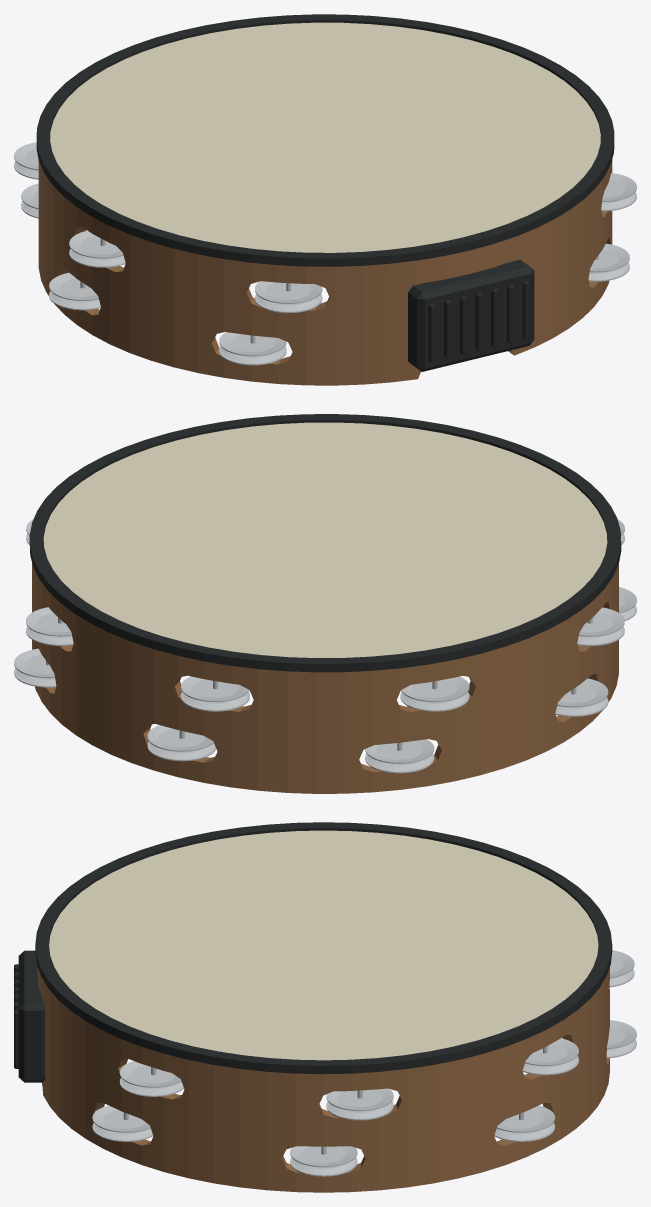
The model's file is full.fbx.
3 renders of one model, top to bottom at view 1: azimuth 30°, elevation 25°; view 2: azimuth 150°, elevation 25°; view 3: azimuth 270°, elevation 25°, orthographic. The views are drawn at different scales.
Visible parts, largest first — view 1: Cream taut head, Wooden slotted circular frame, Narrow dark upper binding, Rounded grip pad, Jingle 1 7 1, Jingle 0 7 1, Jingle 1 6 1, Jingle 0 6 1, Jingle 0 1 1, Jingle 1 1 1, Jingle 0 7 -1, Jingle 1 7 -1 (+2 smaller); view 2: Cream taut head, Wooden slotted circular frame, Narrow dark upper binding, Jingle 0 5 1, Jingle 1 5 1, Jingle 1 4 1, Jingle 0 4 1, Jingle 0 6 1, Jingle 1 6 1, Jingle 1 3 1, Jingle 0 3 1, Jingle 0 5 -1 (+3 smaller); view 3: Cream taut head, Wooden slotted circular frame, Narrow dark upper binding, Rounded grip pad, Jingle 0 2 1, Jingle 1 2 1, Jingle 1 1 1, Jingle 0 1 1, Jingle 0 3 1, Jingle 1 3 1, Jingle 0 2 -1, Jingle 1 2 -1 (+5 smaller).
Boxes of the visible parts, x1,y1,x2,y2 form: Cream taut head: (50, 22, 600, 252); Wooden slotted circular frame: (38, 160, 612, 385); Narrow dark upper binding: (36, 14, 614, 266); Rounded grip pad: (408, 259, 534, 371); Jingle 1 7 1: (255, 281, 322, 303); Jingle 0 7 1: (219, 332, 286, 356); Jingle 1 6 1: (69, 230, 123, 258); Jingle 0 6 1: (49, 272, 98, 300); Jingle 0 1 1: (589, 243, 629, 272); Jingle 1 1 1: (602, 173, 636, 201); Jingle 0 7 -1: (219, 346, 286, 365); Jingle 1 7 -1: (255, 294, 322, 313); Cream taut head: (43, 422, 607, 657); Wooden slotted circular frame: (32, 563, 618, 793); Narrow dark upper binding: (29, 414, 621, 672); Jingle 0 5 1: (365, 739, 434, 763); Jingle 1 5 1: (401, 676, 469, 702); Jingle 1 4 1: (181, 676, 249, 702); Jingle 0 4 1: (147, 725, 213, 751); Jingle 0 6 1: (557, 678, 608, 707); Jingle 1 6 1: (579, 607, 624, 636); Jingle 1 3 1: (26, 607, 71, 636); Jingle 0 3 1: (14, 648, 54, 678); Jingle 0 5 -1: (365, 753, 434, 773); Cream taut head: (49, 830, 598, 1060); Wooden slotted circular frame: (37, 967, 609, 1192); Narrow dark upper binding: (35, 822, 612, 1074); Rounded grip pad: (18, 950, 45, 1082); Jingle 0 2 1: (290, 1146, 357, 1167); Jingle 1 2 1: (326, 1088, 393, 1111); Jingle 1 1 1: (119, 1061, 181, 1087); Jingle 0 1 1: (92, 1105, 150, 1132); Jingle 0 3 1: (497, 1105, 555, 1132); Jingle 1 3 1: (525, 1038, 578, 1065); Jingle 0 2 -1: (290, 1157, 357, 1176); Jingle 1 2 -1: (326, 1101, 393, 1120).
Size of the model in its own units: 27.8 by 6.25 by 27.65.
